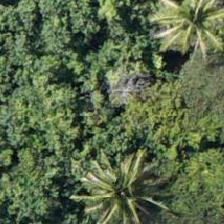coconut_tree: (86, 150, 176, 223), (146, 0, 223, 63)
